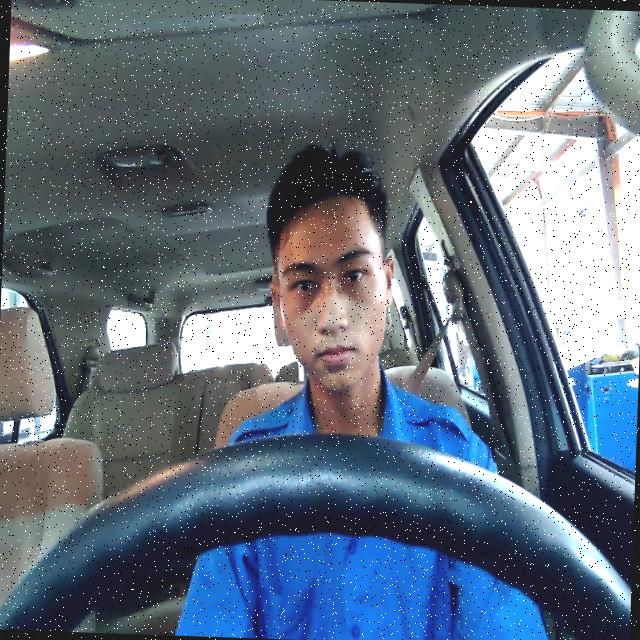focused: (264, 193, 396, 394)
